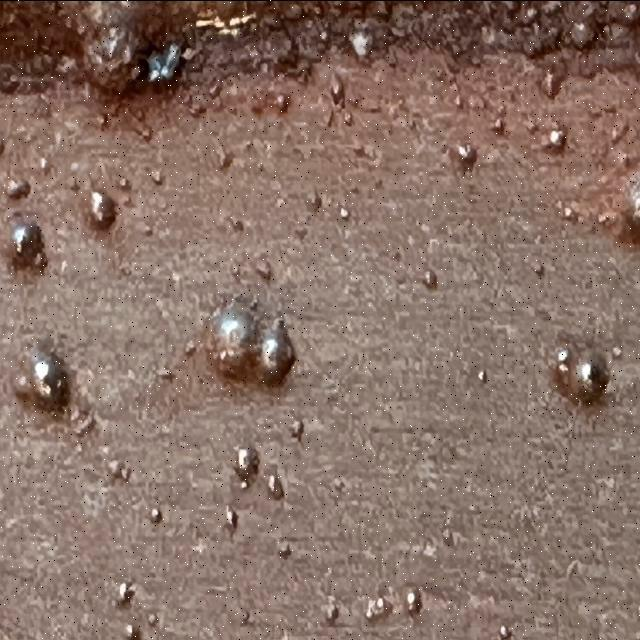Spatters: (205, 303, 294, 385), (85, 22, 151, 92), (14, 342, 69, 413), (549, 343, 609, 405), (598, 165, 640, 244), (11, 222, 48, 272), (148, 42, 181, 79), (234, 445, 259, 488), (91, 190, 116, 228), (349, 23, 372, 57), (365, 595, 392, 622), (70, 405, 94, 435), (214, 138, 234, 170), (404, 585, 422, 617), (541, 70, 561, 98), (330, 73, 345, 107), (322, 595, 339, 625), (109, 458, 131, 480), (6, 178, 30, 198), (268, 472, 284, 500), (255, 253, 271, 280), (458, 142, 476, 163), (225, 503, 238, 532), (422, 268, 438, 290), (119, 580, 134, 603), (549, 128, 566, 147), (290, 418, 304, 440), (561, 205, 578, 222), (275, 92, 289, 112), (124, 623, 139, 640), (524, 115, 538, 133), (156, 365, 172, 380), (184, 338, 196, 357), (531, 260, 544, 277), (228, 218, 243, 232), (491, 117, 504, 133), (278, 542, 291, 558), (499, 623, 511, 640), (150, 507, 161, 523), (151, 168, 162, 183), (148, 612, 159, 627), (478, 368, 488, 383), (344, 110, 354, 125), (118, 177, 131, 188), (611, 345, 622, 357), (340, 205, 349, 218)
